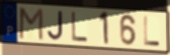1: (98, 11, 110, 47)
6: (119, 13, 137, 46)
J: (47, 10, 65, 42)
L: (142, 15, 161, 47), (70, 11, 89, 43)
M: (18, 7, 45, 43)
